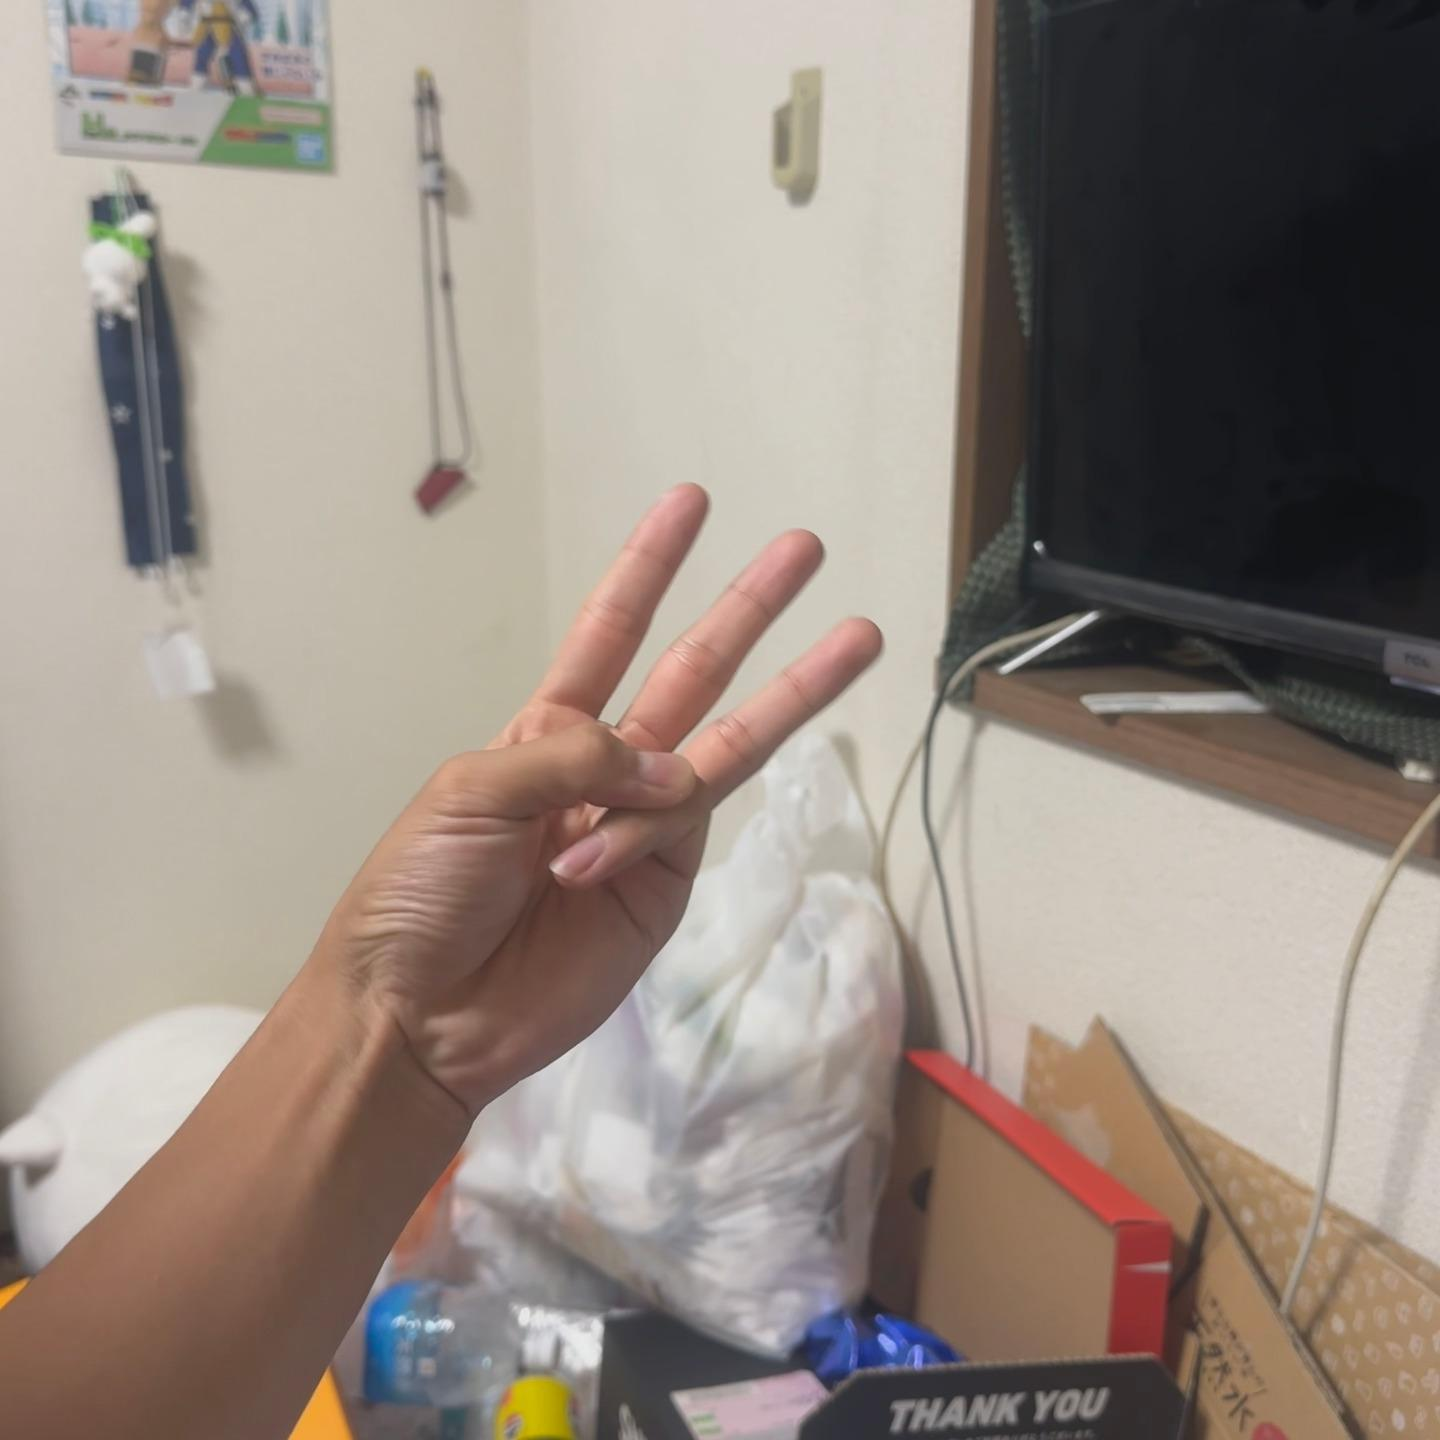without_gloves: (260, 390, 1105, 1195)
